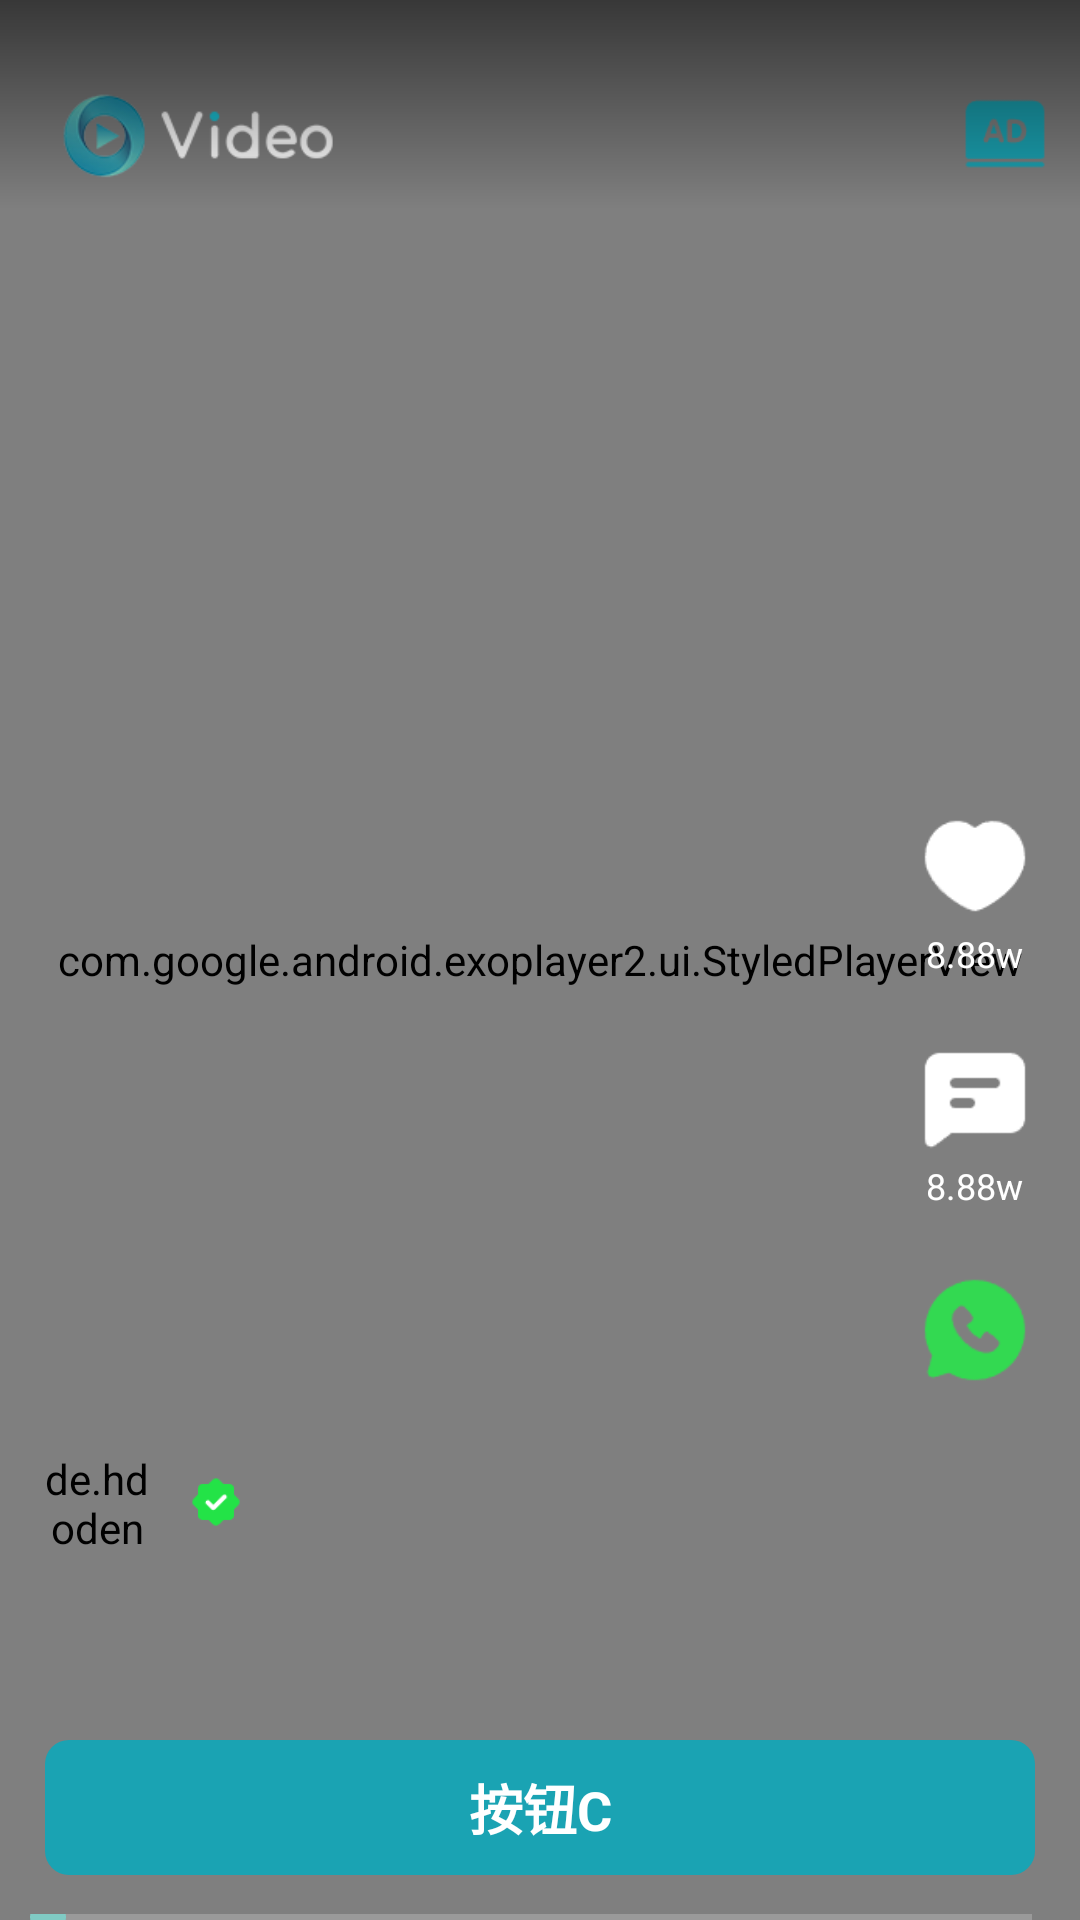

Named icons in this screenshot (1080*1920) and their centers, point (x, y):
chat off: point (975, 1099)
heart off: point (975, 866)
renzheng: point (216, 1502)
